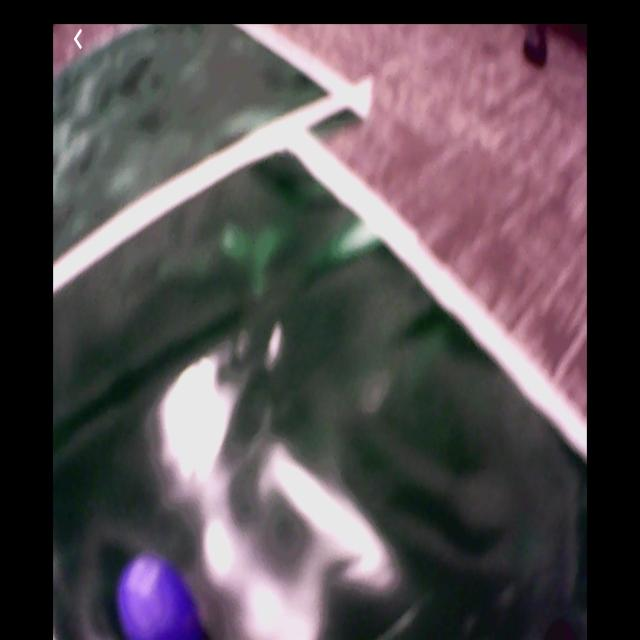ball: (122, 554, 197, 638)
